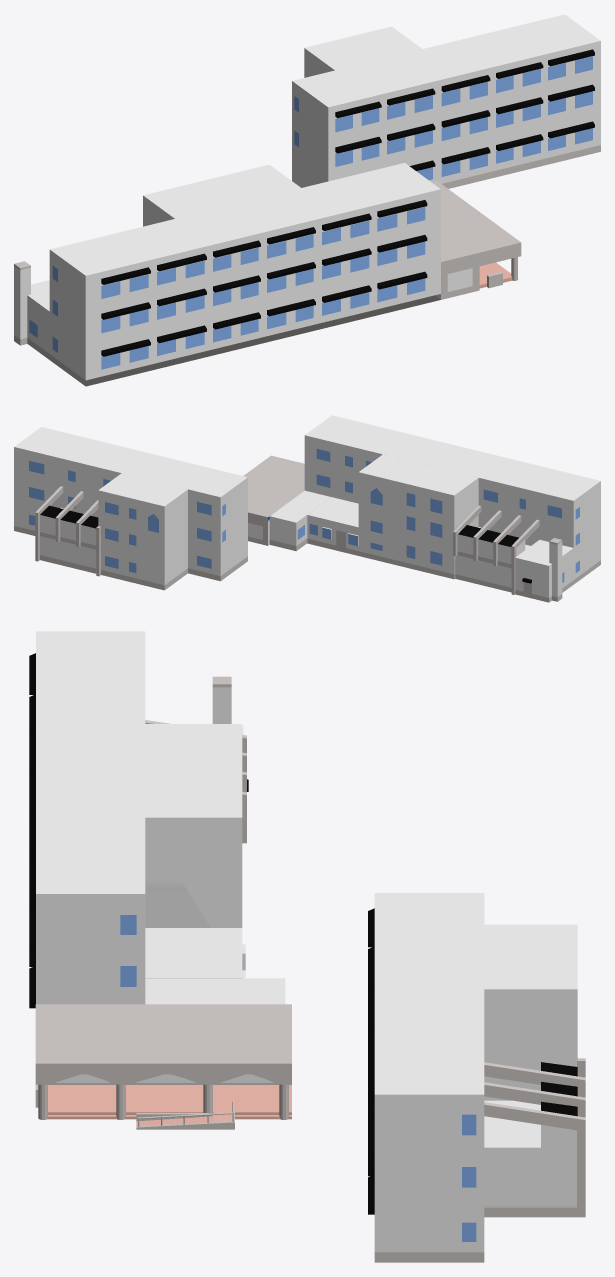
The model's file is ryou.glb.
The picture shows the model from 3 angles, top to bottom: view 1: azimuth 30°, elevation 25°; view 2: azimuth 150°, elevation 25°; view 3: azimuth 270°, elevation 25°; orthographic projection. The views are drawn at different scales.
Visible parts, largest first — view 1: 学生寮・男子, 学生寮・女子, 学生寮・男子・玄関口, 学生寮・男子・出っ張った部分, 学生寮・男子・なんか出口あるとこ, 学生寮・男子・なんか出口あるとこ・四角柱; view 2: 学生寮・女子, 学生寮・男子, 学生寮・男子・出っ張った部分, 学生寮・男子・玄関口, 学生寮・男子・謎部分・建物部分・土台, 学生寮・女子・謎部分・建物部分・土台, 学生寮・男子・通路近くの低い部分, 学生寮・男子・なんか出口あるとこ, 学生寮・男子・食堂行通路側, 学生寮・男子・なんか出口あるとこ・四角柱; view 3: 学生寮・女子, 学生寮・男子, 学生寮・男子・出っ張った部分, 学生寮・男子・玄関口, 学生寮・女子・謎部分・建物部分・土台, 学生寮・男子・玄関・階段, 学生寮・男子・通路近くの低い部分, 学生寮・男子・玄関・屋根・装飾, 学生寮・男子・食堂行通路側, 学生寮・女子・枠組み・土台.002, 学生寮・女子・謎部分・斜め枠組み, 学生寮・男子・玄関・円柱 (+3 smaller).
Part boxes in pixels (x1,y1,x2,y2): 学生寮・男子: [49, 163, 440, 386]; 学生寮・女子: [292, 14, 600, 188]; 学生寮・男子・玄関口: [431, 181, 519, 299]; 学生寮・男子・出っ張った部分: [143, 164, 300, 226]; 学生寮・男子・なんか出口あるとこ: [27, 280, 49, 359]; 学生寮・男子・なんか出口あるとこ・四角柱: [14, 261, 30, 345]; 学生寮・女子: [14, 427, 247, 590]; 学生寮・男子: [304, 415, 600, 584]; 学生寮・男子・出っ張った部分: [358, 454, 478, 579]; 学生寮・男子・玄関口: [245, 456, 304, 545]; 学生寮・男子・謎部分・建物部分・土台: [455, 525, 530, 592]; 学生寮・女子・謎部分・建物部分・土台: [40, 505, 98, 573]; 学生寮・男子・通路近くの低い部分: [307, 497, 358, 555]; 学生寮・男子・なんか出口あるとこ: [515, 539, 573, 602]; 学生寮・男子・食堂行通路側: [269, 490, 330, 551]; 学生寮・男子・なんか出口あるとこ・四角柱: [549, 538, 562, 601]; 学生寮・女子: [368, 893, 577, 1262]; 学生寮・男子: [29, 631, 145, 1008]; 学生寮・男子・出っ張った部分: [145, 724, 242, 927]; 学生寮・男子・玄関口: [35, 1004, 291, 1084]; 学生寮・女子・謎部分・建物部分・土台: [484, 1062, 577, 1207]; 学生寮・男子・玄関・階段: [47, 1085, 291, 1119]; 学生寮・男子・通路近くの低い部分: [145, 928, 245, 978]; 学生寮・男子・玄関・屋根・装飾: [35, 1062, 291, 1084]; 学生寮・男子・食堂行通路側: [145, 978, 285, 1004]; 学生寮・女子・枠組み・土台.002: [484, 1120, 585, 1217]; 学生寮・女子・謎部分・斜め枠組み: [484, 1102, 585, 1130]; 学生寮・男子・玄関・円柱: [38, 1084, 288, 1119].
Bounding box in the file's own units: 15.77 × 2.64 × 7.91.
1 material, 1 textured.
